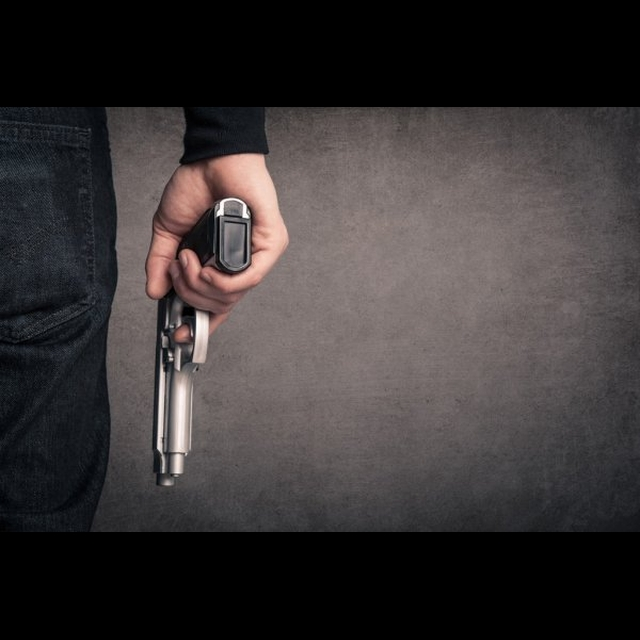SILAH: (126, 139, 308, 495)
